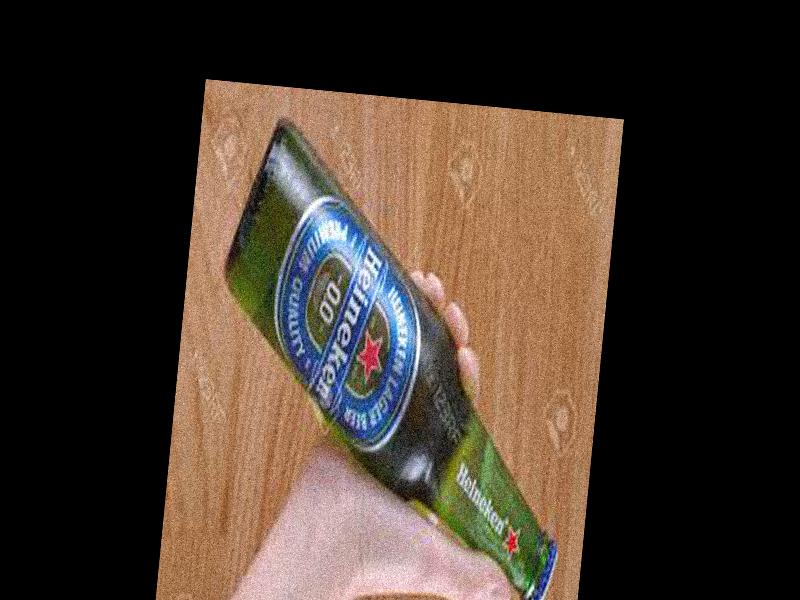Beer: (192, 116, 597, 600)
